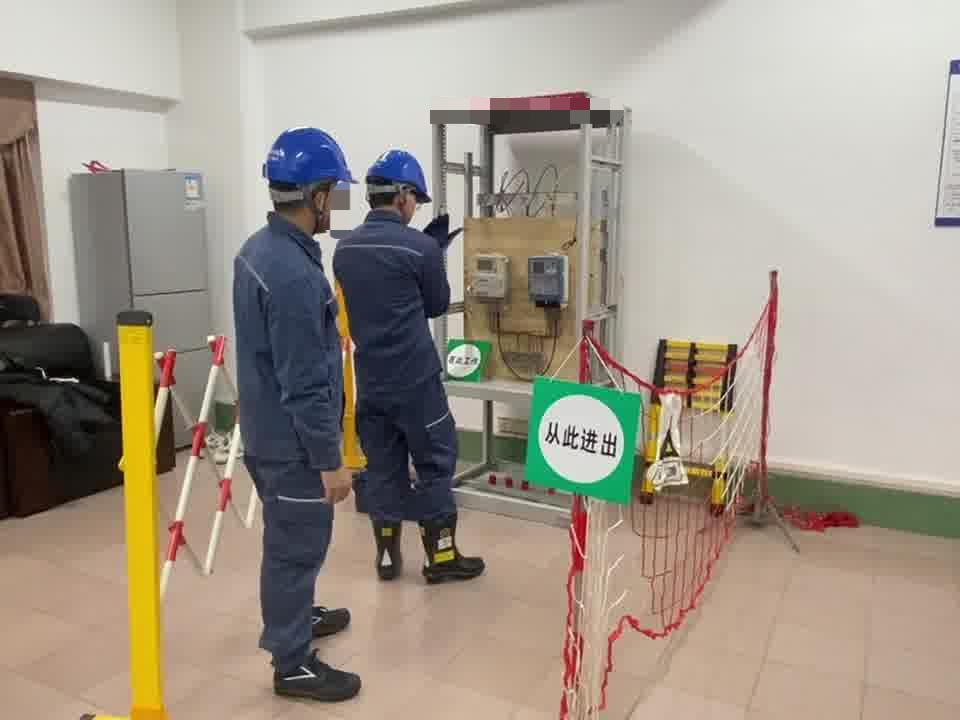halt: (264, 129, 359, 235), (367, 150, 433, 219)
inear: (303, 184, 335, 225), (395, 185, 417, 218)
